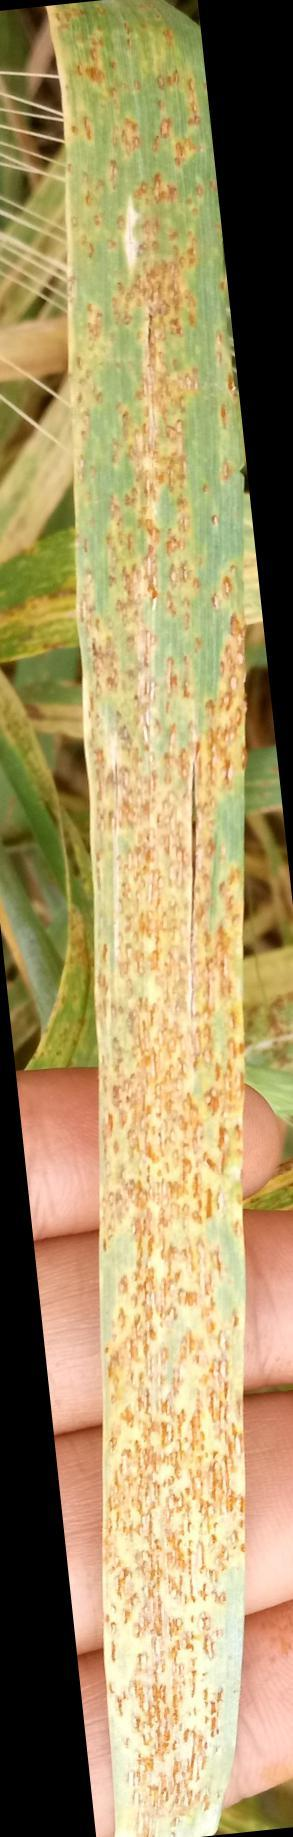Wheat: (112, 562, 232, 1644), (75, 154, 206, 524)
